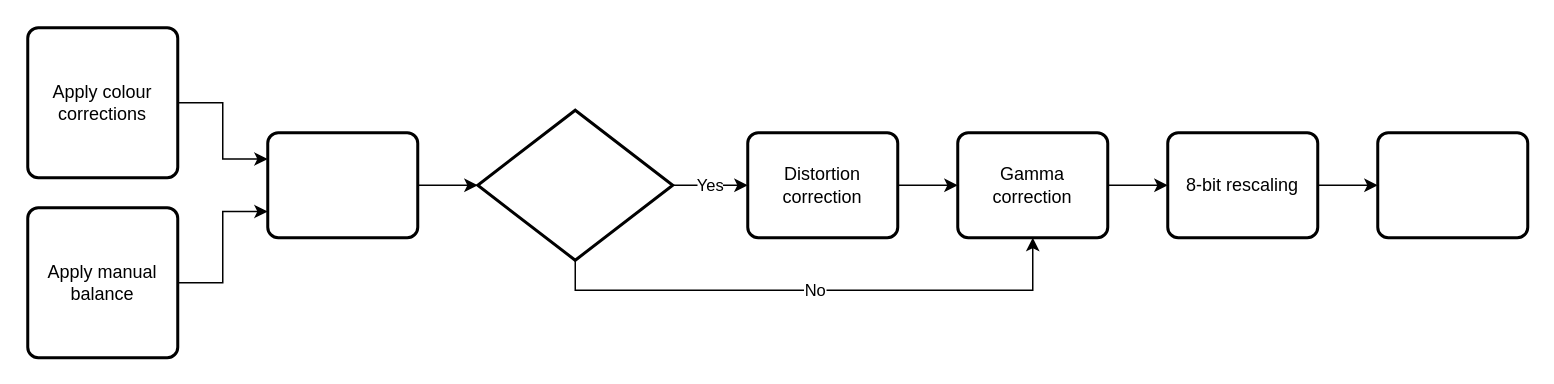
This 1554x384 diagram has some shape labels left out. The centre of each missing label's shape, as x and y in pixels:
Debayer: the point at 342,184
Distortion correct?: the point at 575,184
Save images: the point at 1452,184
